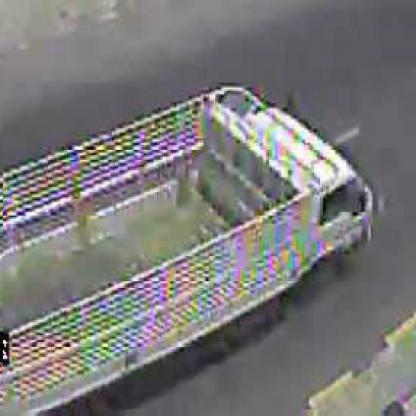truck: (3, 83, 374, 412)
